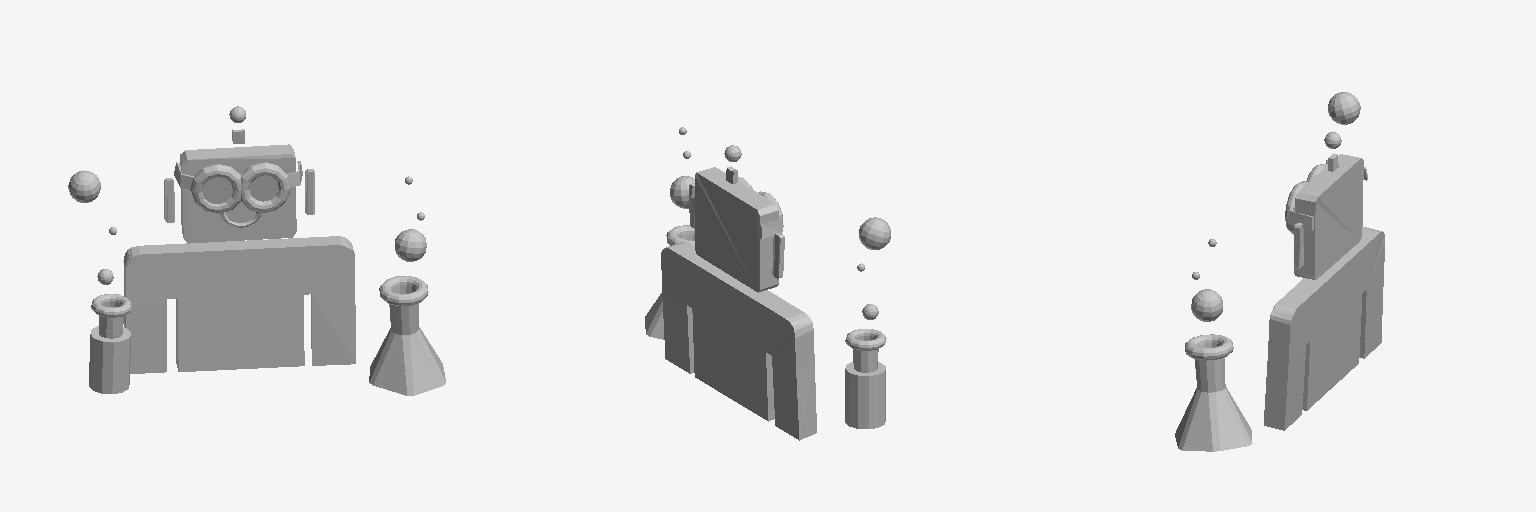
The model's file is robot.obj.
The picture shows the model from 3 angles: view 1: azimuth 30°, elevation 25°; view 2: azimuth 150°, elevation 25°; view 3: azimuth 270°, elevation 25°; orthographic projection.
Visible parts, largest first — view 1: group[number redacted], group[number redacted], group[number redacted], group[number redacted], group[number redacted], group[number redacted], group[number redacted], group[number redacted], group[number redacted], group[number redacted]; view 2: group[number redacted], group[number redacted], group[number redacted], group[number redacted], group[number redacted], group[number redacted]; view 3: group[number redacted], group[number redacted], group[number redacted], group[number redacted], group[number redacted].
Part boxes in pixels (x1,y1,x2,y2): group[number redacted]: (123,106,355,373); group[number redacted]: (369,276,445,395); group[number redacted]: (89,326,130,393); group[number redacted]: (241,161,302,212); group[number redacted]: (174,162,240,213); group[number redacted]: (91,294,131,338); group[number redacted]: (395,229,426,261); group[number redacted]: (68,170,100,202); group[number redacted]: (202,177,232,203); group[number redacted]: (250,175,278,201); group[number redacted]: (661,145,816,440); group[number redacted]: (845,362,885,428); group[number redacted]: (845,329,886,372); group[number redacted]: (645,225,694,339); group[number redacted]: (859,217,890,249); group[number redacted]: (670,176,694,208); group[number redacted]: (1264,132,1384,430); group[number redacted]: (1175,334,1252,451); group[number redacted]: (1328,92,1360,124); group[number redacted]: (1191,289,1222,321); group[number redacted]: (1285,181,1313,234).
Size of the model in its own units: 1.28 by 1.02 by 0.7634.